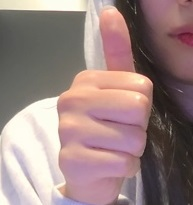best: (56, 5, 153, 184)
